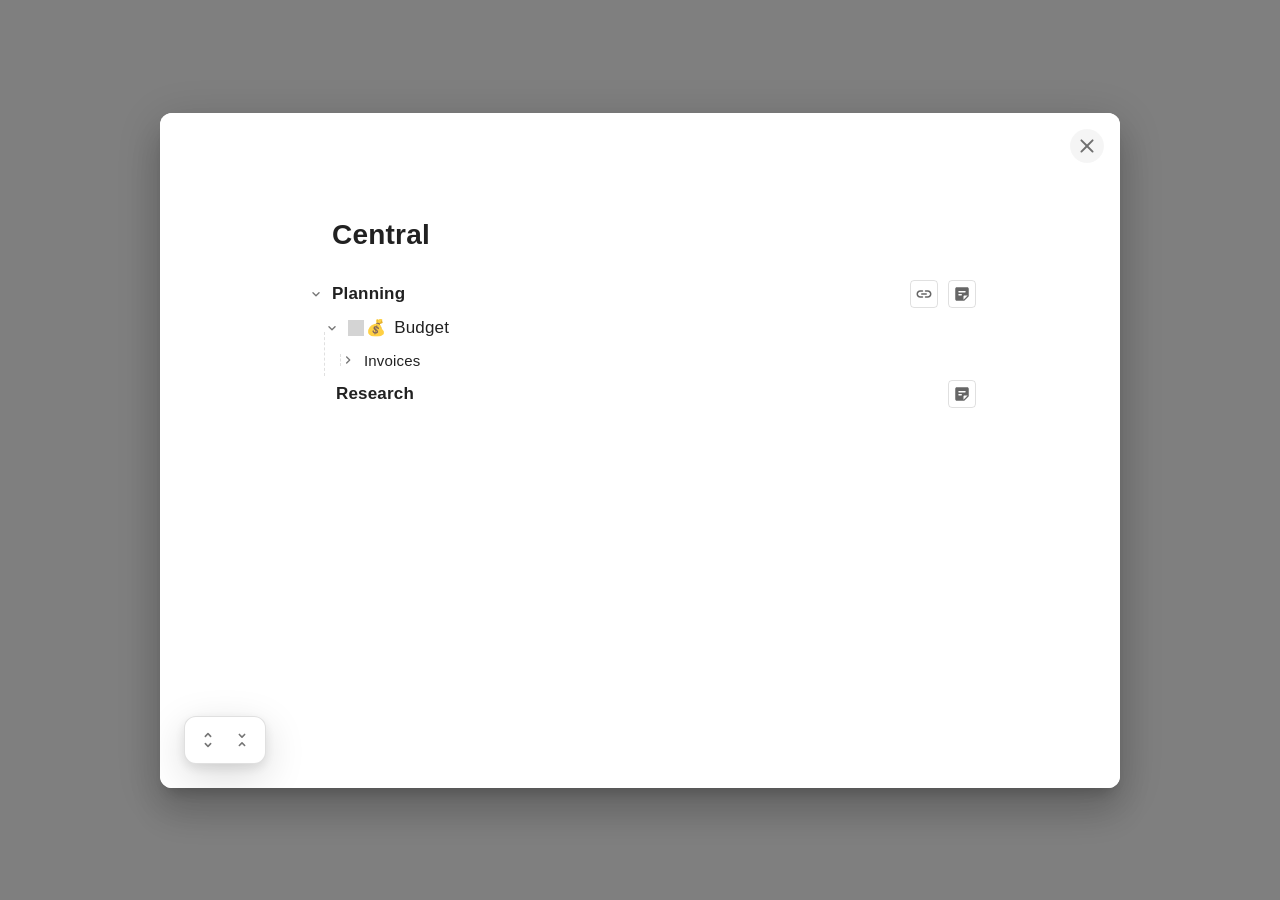
Test: OutlineViewDialog › closes the popover with Escape
The width and height of the screenshot is (1280, 900).
Hover over the button named "note" in the row of "Planning" at [962, 294], box [948,280,976,308]
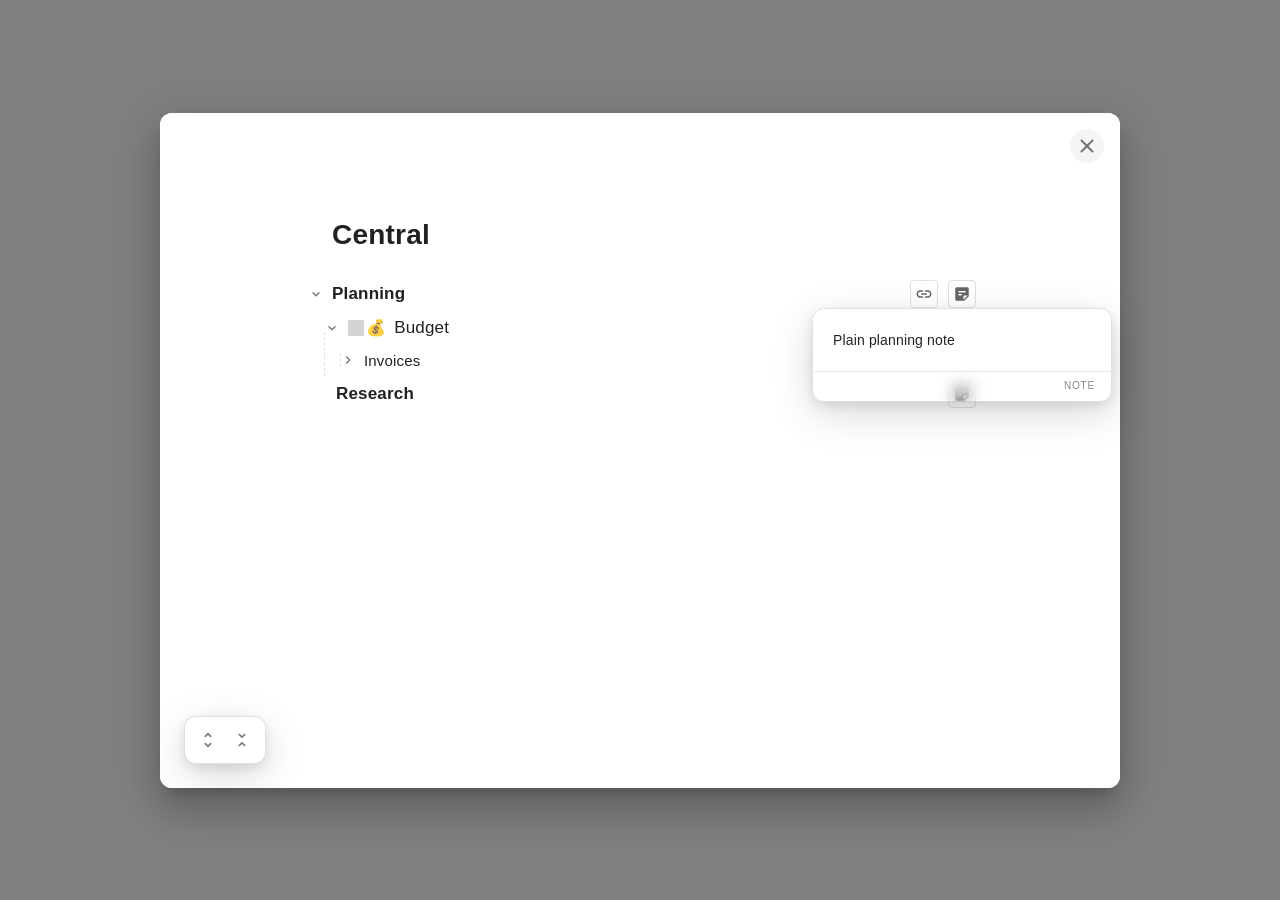
Press Escape in the text "Plain planning note", box [813,309,1111,363]
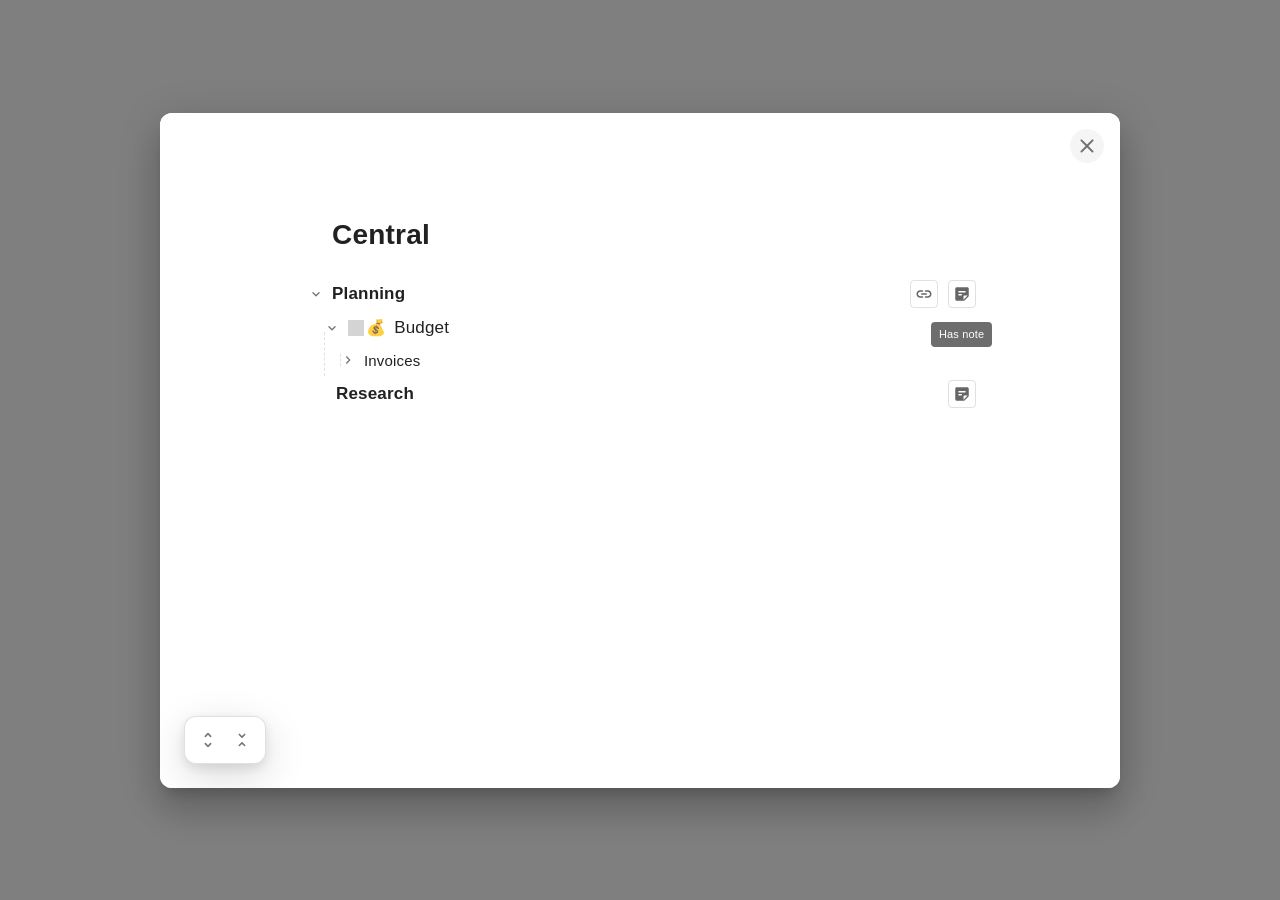
Check: the text "Plain planning note" is gone
